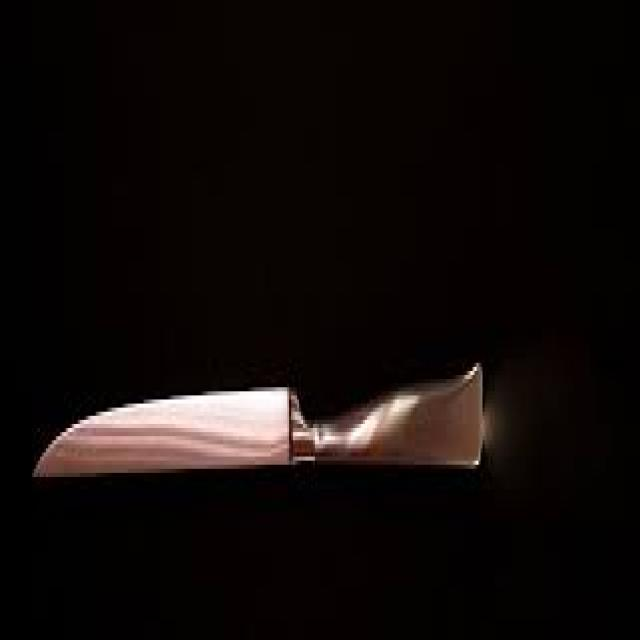Knife: (32, 355, 484, 481)
